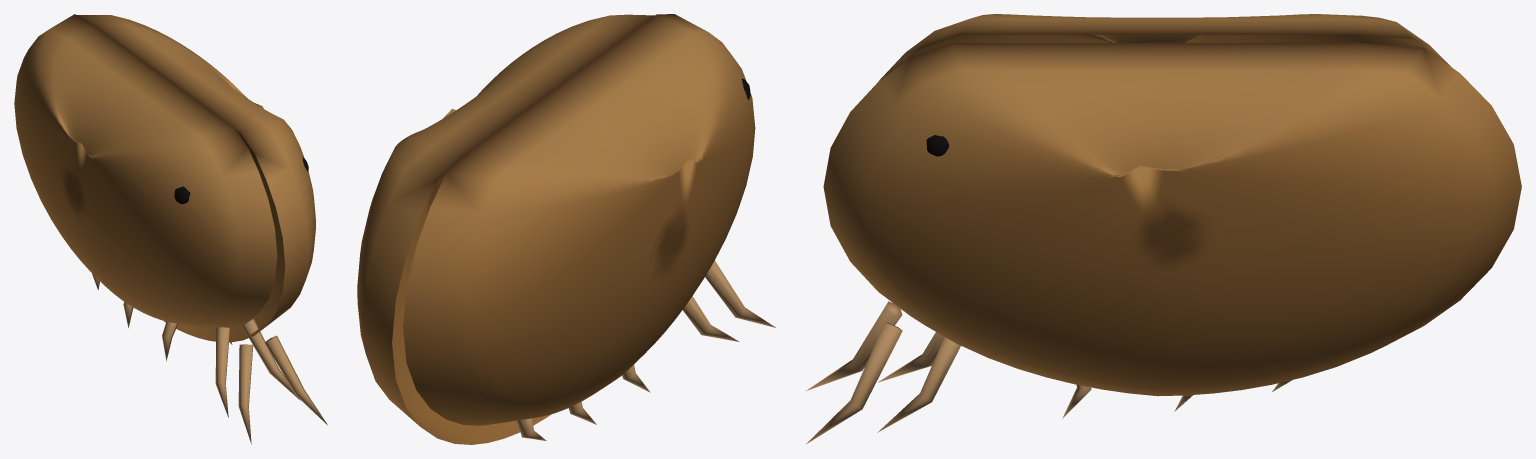
Rendered from LeperditiaFabulites.fbx.
3 views of the same model, side by side, from view 1: azimuth 30°, elevation 25°; view 2: azimuth 150°, elevation 25°; view 3: azimuth 270°, elevation 25° (orthographic). The views are drawn at different scales.
Parts seen in each view (by area): view 1: LeperditiaFabulites; view 2: LeperditiaFabulites; view 3: LeperditiaFabulites.
Part boxes in pixels (box(x1,y1,x2,y2)): LeperditiaFabulites: box(14, 14, 327, 444); LeperditiaFabulites: box(357, 14, 775, 444); LeperditiaFabulites: box(806, 14, 1521, 443).
Bounding box in the file's own units: 0.448 × 0.6382 × 1.08.
